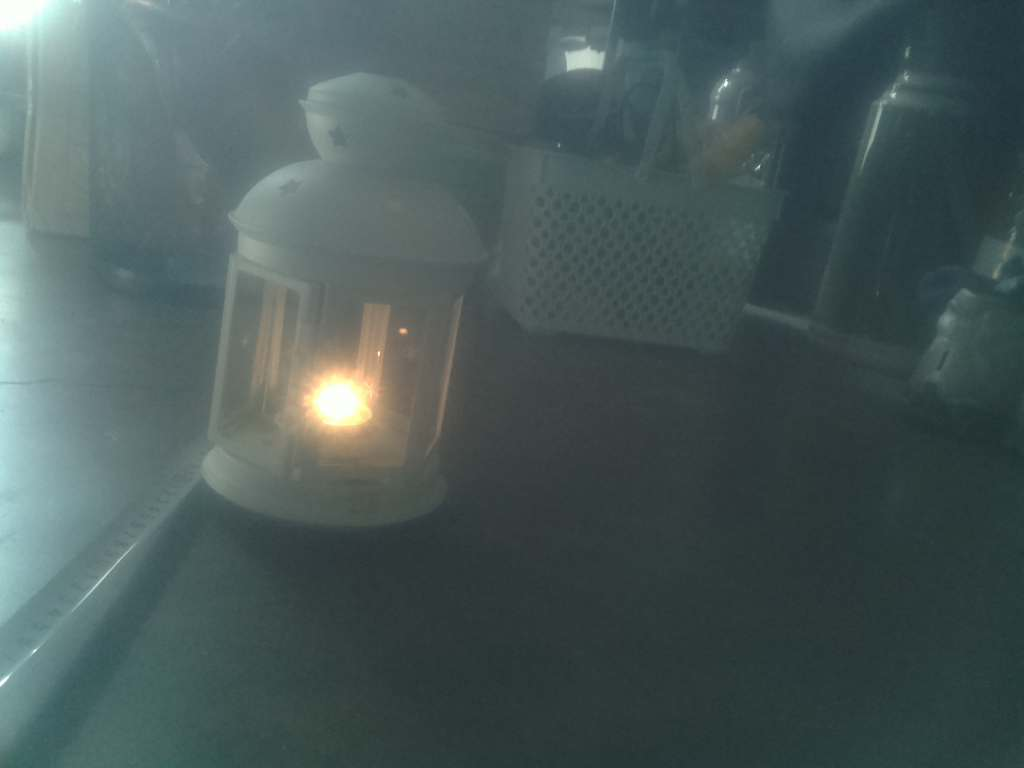fire: (292, 356, 398, 457)
